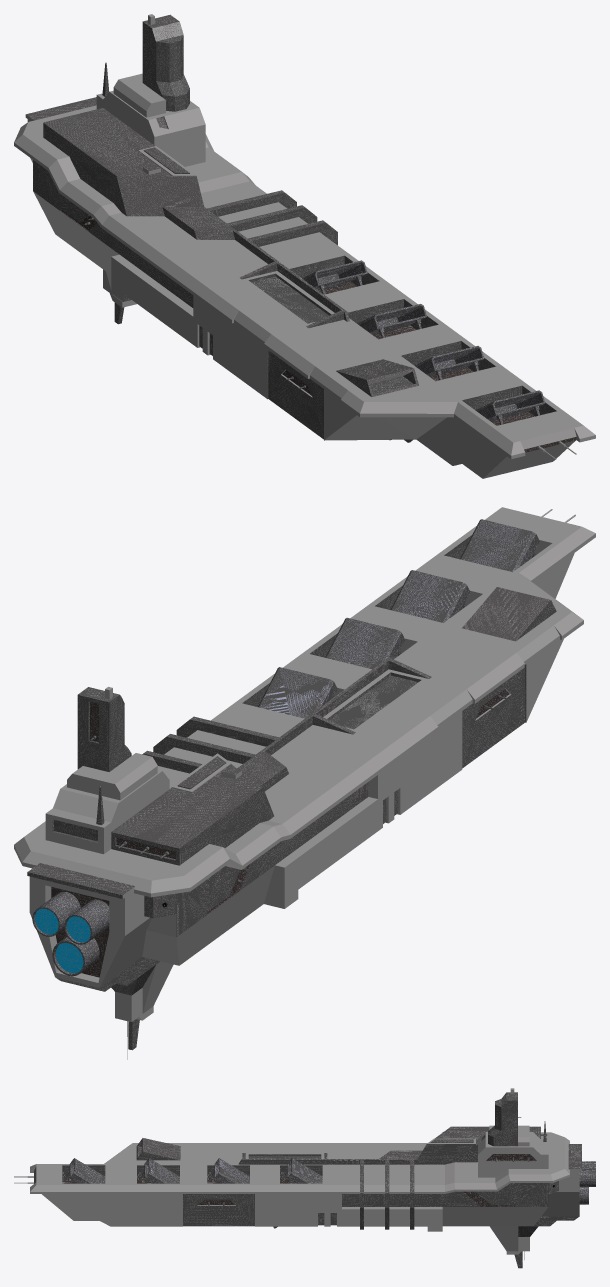
The model's file is Saratoga-Class+Heavy+Carrier+'TDV+Saratoga'.dae.
3 views of the same model, one above another, from view 1: azimuth 30°, elevation 25°; view 2: azimuth 150°, elevation 25°; view 3: azimuth 270°, elevation 25° (orthographic). The views are drawn at different scales.
Parts seen in each view (by area): view 1: SketchUp (×17); view 2: SketchUp (×18); view 3: SketchUp (×16).
Boxes of the visible parts, bbox=[...] form: SketchUp (×17): bbox=[14, 14, 595, 478]; SketchUp (×18): bbox=[14, 507, 595, 1021]; SketchUp (×16): bbox=[30, 1092, 595, 1254].
Bounding box in the file's own units: 8127 × 40230 × 14606.
